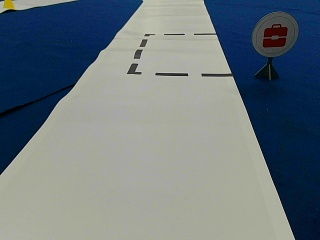company: (253, 12, 298, 55)
